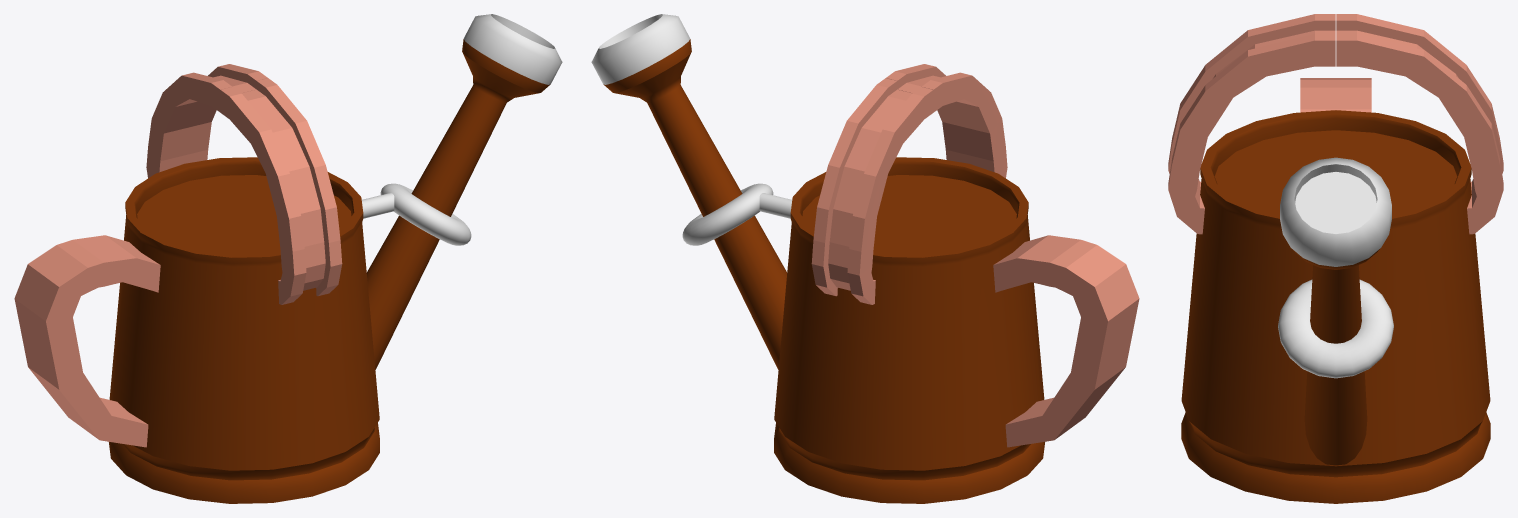
File: FlowerWaterer.fbx
3 views of the same model, side by side, from view 1: azimuth 30°, elevation 25°; view 2: azimuth 150°, elevation 25°; view 3: azimuth 270°, elevation 25° (orthographic). The views are drawn at different scales.
Parts seen in each view (by area): view 1: pCylinder1, pCube1, pCylinder2, pCube2, pTorus1, pCylinder3; view 2: pCylinder1, pCube1, pCylinder2, pCube2, pTorus1, pCylinder3; view 3: pCylinder1, pCube1, pCylinder2, pTorus1, pCube2.
Part boxes in pixels (x1,y1,x2,y2): pCylinder1: (109,157,379,503); pCube1: (146,64,342,304); pCylinder2: (366,14,562,369); pCube2: (14,235,160,447); pTorus1: (380,183,471,245); pCylinder3: (361,193,394,218); pCylinder1: (774,157,1044,503); pCube1: (811,64,1007,304); pCylinder2: (591,14,787,369); pCube2: (993,235,1139,447); pTorus1: (682,183,773,245); pCylinder3: (759,193,792,218); pCylinder1: (1181,110,1490,503); pCube1: (1168,14,1503,234); pCylinder2: (1280,157,1391,465); pTorus1: (1278,279,1393,378); pCube2: (1300,78,1371,112).
Bounding box in the file's own units: 4.44 × 2.95 × 2.17.
